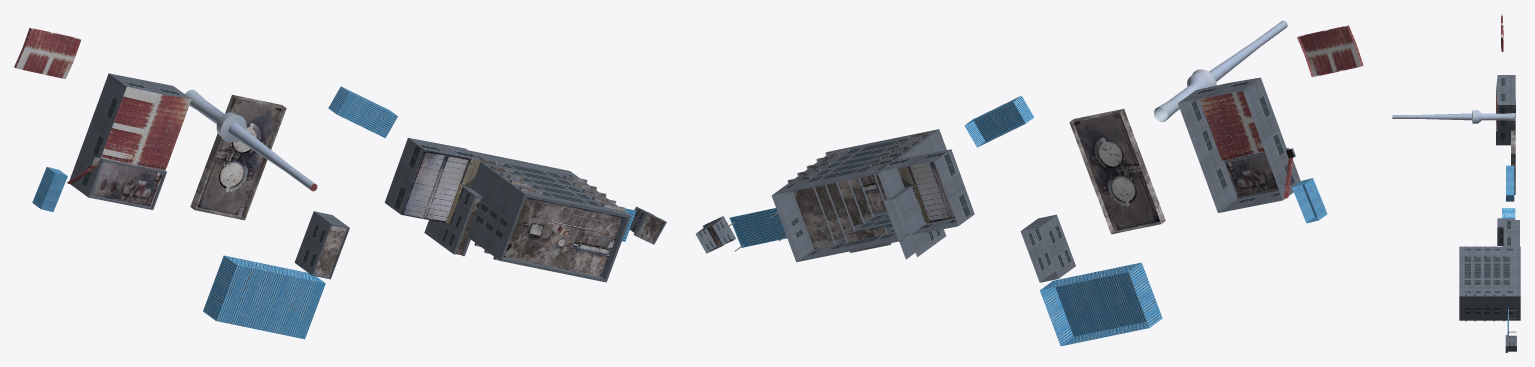
3 views of the same model, side by side, from view 1: azimuth 30°, elevation 25°; view 2: azimuth 150°, elevation 25°; view 3: azimuth 270°, elevation 25° (orthographic). The views are drawn at different scales.
Parts seen in each view (by area): view 1: p6a_02_01; view 2: p6a_02_01; view 3: p6a_02_01.
Boxes of the visible parts, <box> form: p6a_02_01: <box>14,27,666,339</box>; p6a_02_01: <box>695,20,1363,346</box>; p6a_02_01: <box>1392,14,1520,352</box>.
Size of the model in its own units: 14095 by 7770 by 4783.
